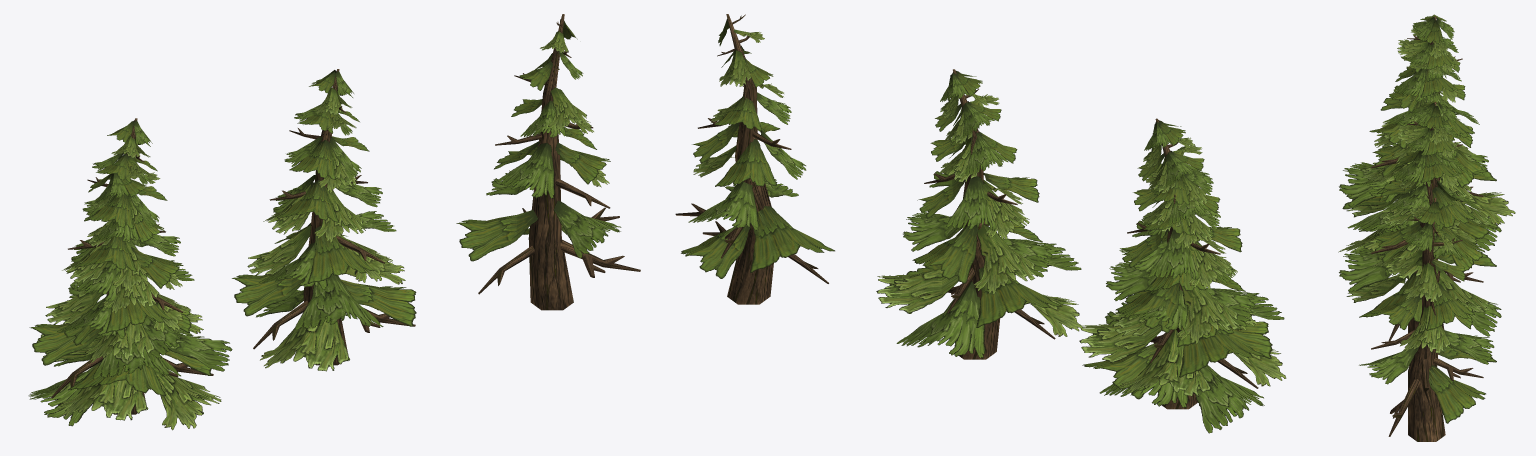
File: tree_model.obj
3 views of the same model, side by side, from view 1: azimuth 30°, elevation 25°; view 2: azimuth 150°, elevation 25°; view 3: azimuth 270°, elevation 25° (orthographic). The views are drawn at different scales.
Parts seen in each view (by area): view 1: Leaves_03_pine_texture_improved.159, Leaves_02_pine_texture_improved.044, Leaves_01_pine_texture_improved.001, trunk_01_Cylinder.008, trunk_02_Cylinder.019, trunk_03_Cylinder.020; view 2: Leaves_03_pine_texture_improved.159, Leaves_02_pine_texture_improved.044, Leaves_01_pine_texture_improved.001, trunk_01_Cylinder.008, trunk_02_Cylinder.019, trunk_03_Cylinder.020; view 3: Leaves_03_pine_texture_improved.159, Leaves_02_pine_texture_improved.044, Leaves_01_pine_texture_improved.001, trunk_01_Cylinder.008, trunk_02_Cylinder.019, trunk_03_Cylinder.020.
Part boxes in pixels (bbox=[...]): Leaves_03_pine_texture_improved.159: bbox=[28, 120, 232, 430]; Leaves_02_pine_texture_improved.044: bbox=[232, 70, 416, 371]; Leaves_01_pine_texture_improved.001: bbox=[456, 19, 621, 261]; trunk_01_Cylinder.008: bbox=[478, 14, 640, 310]; trunk_02_Cylinder.019: bbox=[253, 69, 415, 365]; trunk_03_Cylinder.020: bbox=[51, 118, 213, 414]; Leaves_03_pine_texture_improved.159: bbox=[1079, 120, 1286, 433]; Leaves_02_pine_texture_improved.044: bbox=[876, 70, 1083, 358]; Leaves_01_pine_texture_improved.001: bbox=[681, 19, 834, 278]; trunk_01_Cylinder.008: bbox=[675, 14, 828, 304]; trunk_02_Cylinder.019: bbox=[924, 69, 1055, 359]; trunk_03_Cylinder.020: bbox=[1127, 118, 1258, 409]; Leaves_03_pine_texture_improved.159: bbox=[1338, 14, 1515, 252]; Leaves_02_pine_texture_improved.044: bbox=[1339, 100, 1501, 336]; Leaves_01_pine_texture_improved.001: bbox=[1359, 201, 1496, 423]; trunk_01_Cylinder.008: bbox=[1371, 194, 1483, 441]; trunk_02_Cylinder.019: bbox=[1371, 102, 1483, 341]; trunk_03_Cylinder.020: bbox=[1371, 16, 1483, 229].
Bounding box in the file's own units: 16.29 × 7.31 × 5.31.
Materials: 2 (2 with a texture image).
